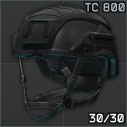MSA Gallet TC 800 High Cut combat helmet: (0, 0, 127, 127)
